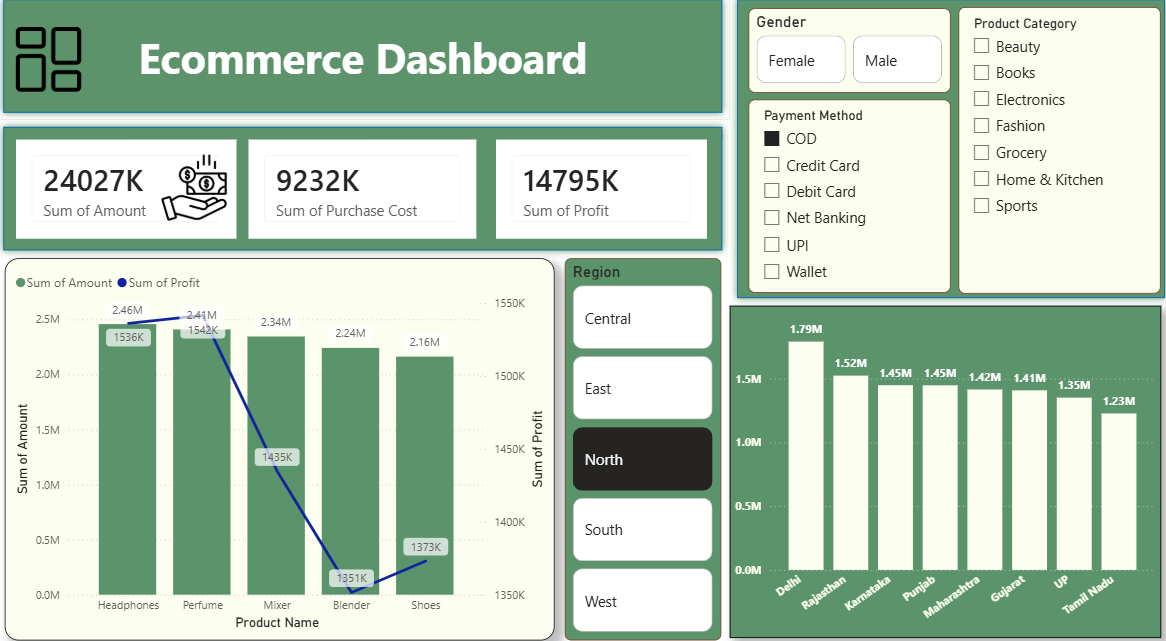

This screenshot's page, from the dashboard's own definition file:
{"tool":"powerbi","page":{"name":"Page 1","canvas":[1280,720],"ordinal":0},"visuals":[{"type":"textbox","box":[10,0,280,280],"z":0},{"type":"shape","box":[0,0,798.5,139.4],"z":1000},{"type":"shape","box":[0,138.2,798.5,150.4],"z":2000},{"type":"shape","box":[798.5,0,481.8,341.2],"z":3000},{"type":"advancedSlicerVisual","fields":{"Values":["Ecommerce Sales Data.Gender"]},"box":[819.3,18.3,220.1,91.7],"z":4000},{"type":"slicer","fields":{"Values":["Ecommerce Sales Data.Payment Method"]},"box":[819.3,117.4,220.1,210.3],"z":5000},{"type":"slicer","fields":{"Values":["Ecommerce Sales Data.Product Category"]},"box":[1048,15.9,220.1,311.8],"z":6000},{"type":"cardVisual","fields":{"Data":["Sum(Ecommerce Sales Data.Amount)"]},"box":[22,160.2,239.7,107.6],"z":7000},{"type":"cardVisual","fields":{"Data":["Sum(Ecommerce Sales Data.Purchase Cost)"]},"box":[275.1,160.2,248.2,107.6],"z":8000},{"type":"cardVisual","fields":{"Data":["Sum(Ecommerce Sales Data.Profit)"]},"box":[544.2,160.2,229.9,107.6],"z":9000},{"type":"lineStackedColumnComboChart","fields":{"Category":["Ecommerce Sales Data.Product Name"],"Y":["Sum(Ecommerce Sales Data.Amount)"],"Y2":["Sum(Ecommerce Sales Data.Profit)"]},"box":[9.5,289.8,598.6,416.3],"z":10000},{"type":"advancedSlicerVisual","fields":{"Values":["Ecommerce Sales Data.Region"]},"box":[619,289.8,170.1,416.3],"z":11000},{"type":"lineStackedColumnComboChart","fields":{"Category":["Ecommerce Sales Data.State"],"Y":["Sum(Ecommerce Sales Data.Amount)"]},"box":[798.6,341.5,469.4,361.9],"z":12000},{"type":"image","box":[0,38.1,114.3,70.7],"z":13000},{"type":"image","box":[179.6,176.9,72.1,72.1],"z":14000}]}

Visuals, with their boxes in screenshot pixels (x1, y1, x2, y2), scaled from the page's 1280x720 canvas onto the 1166x641 screenshot:
textbox: select_region(9, 0, 264, 249)
shape: select_region(0, 0, 727, 124)
shape: select_region(0, 123, 727, 257)
shape: select_region(727, 0, 1165, 304)
advancedSlicerVisual - Ecommerce Sales Data.Gender: select_region(746, 16, 947, 98)
slicer - Ecommerce Sales Data.Payment Method: select_region(746, 105, 947, 292)
slicer - Ecommerce Sales Data.Product Category: select_region(955, 14, 1155, 292)
cardVisual - Sum(Ecommerce Sales Data.Amount): select_region(20, 143, 238, 238)
cardVisual - Sum(Ecommerce Sales Data.Purchase Cost): select_region(251, 143, 477, 238)
cardVisual - Sum(Ecommerce Sales Data.Profit): select_region(496, 143, 705, 238)
lineStackedColumnComboChart - Ecommerce Sales Data.Product Name x Sum(Ecommerce Sales Data.Amount): select_region(9, 258, 554, 629)
advancedSlicerVisual - Ecommerce Sales Data.Region: select_region(564, 258, 719, 629)
lineStackedColumnComboChart - Ecommerce Sales Data.State x Sum(Ecommerce Sales Data.Amount): select_region(727, 304, 1155, 626)
image: select_region(0, 34, 104, 97)
image: select_region(164, 157, 229, 222)
